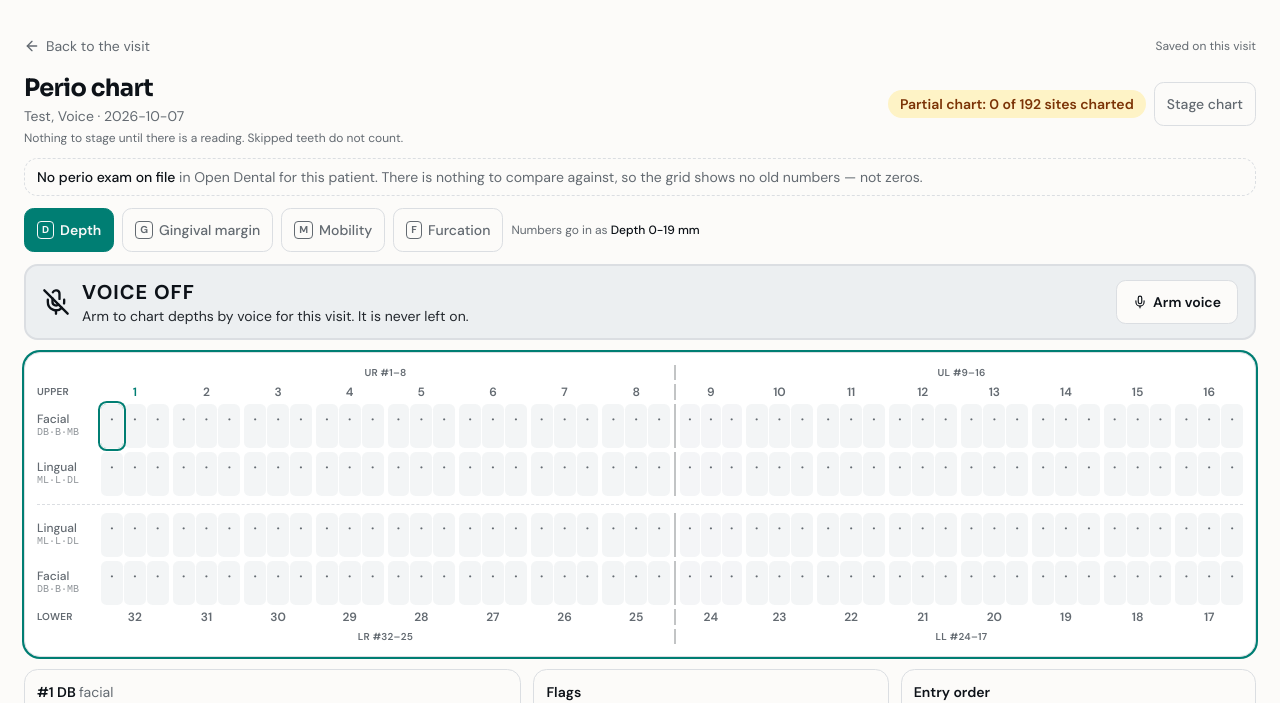
Test case: with HYG_VOICE on › a spent budget is said honestly, and nothing is armed
Click the button with test id "hyg-perio-voice-toggle".
click(1177, 302)  # box [1116,280,1238,324]
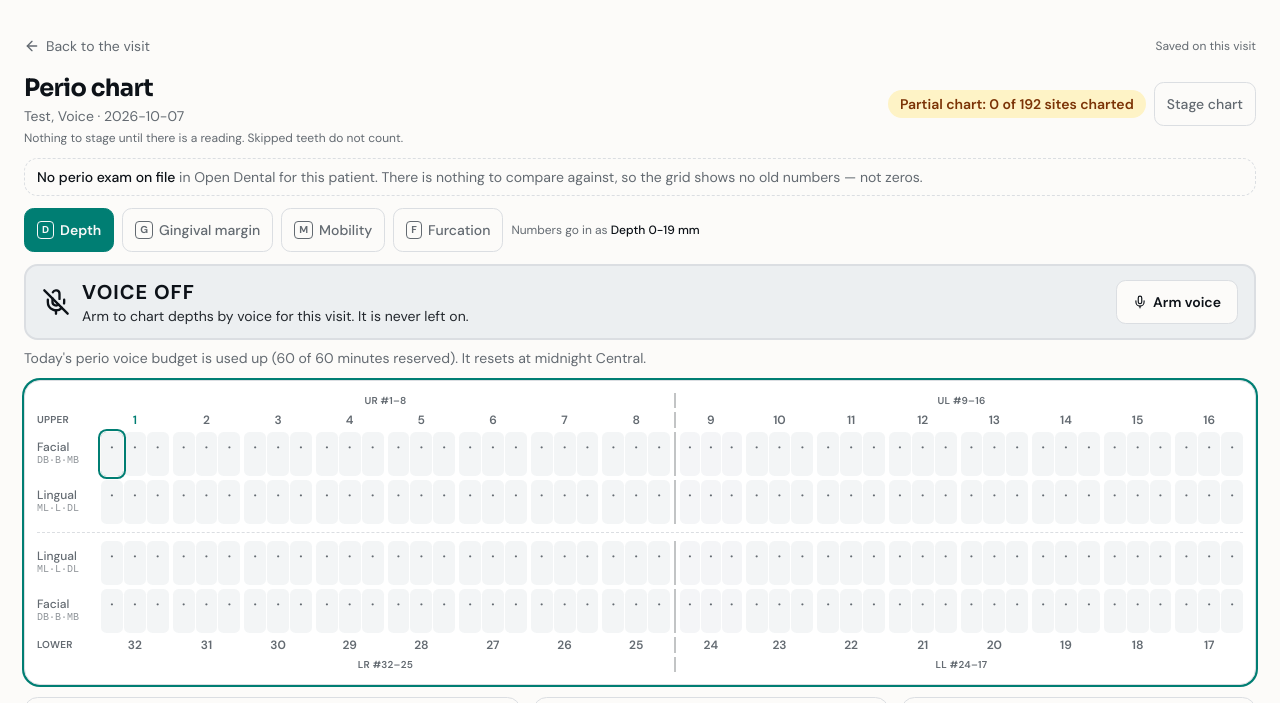
expect the text with test id "hyg-perio-voice-notice" shows "budget is used up": met, box [24,349,646,367]
